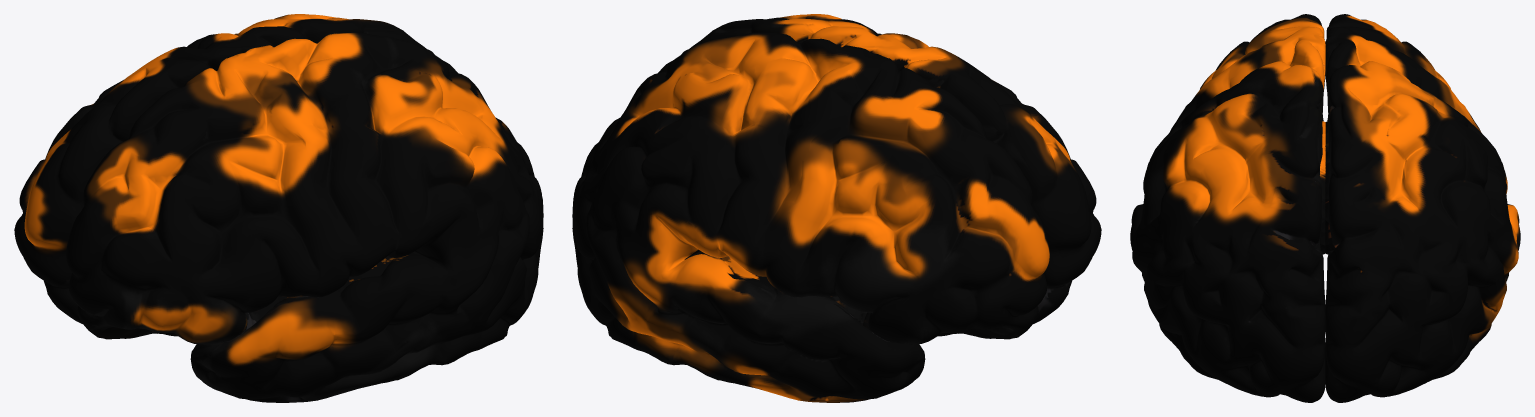
The model's file is handComp.glb.
3 views of the same model, side by side, from view 1: azimuth 30°, elevation 25°; view 2: azimuth 150°, elevation 25°; view 3: azimuth 270°, elevation 25° (orthographic). The views are drawn at different scales.
Visible parts, largest first — view 1: Right, Left; view 2: Left, Right; view 3: Left, Right.
Boxes of the visible parts, x1=… form: Right: x1=66, y1=32, x2=543, y2=402; Left: x1=14, y1=14, x2=457, y2=336; Left: x1=572, y1=32, x2=1049, y2=402; Right: x1=658, y1=14, x2=1101, y2=336; Left: x1=1325, y1=14, x2=1520, y2=402; Right: x1=1130, y1=14, x2=1325, y2=402.
Size of the model in its own units: 1.32 by 0.8372 by 1.06.
2 materials, 2 textured.
